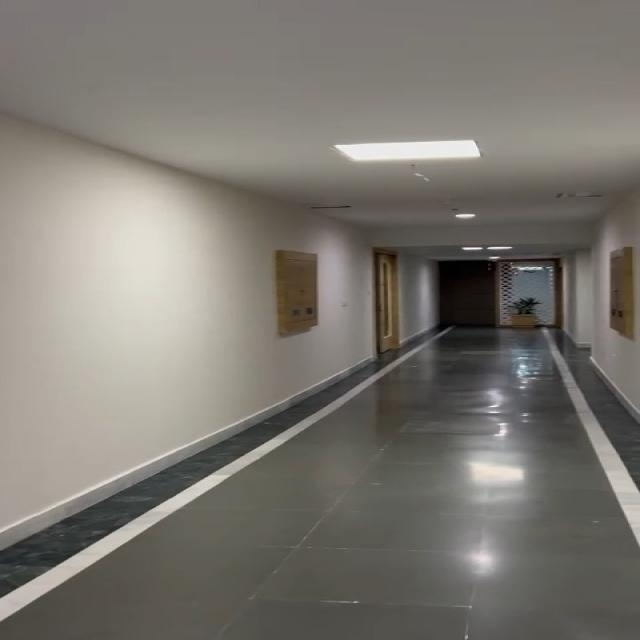floor: (134, 400, 640, 640)
furniture: (486, 298, 535, 324)
wall: (0, 49, 432, 368)
